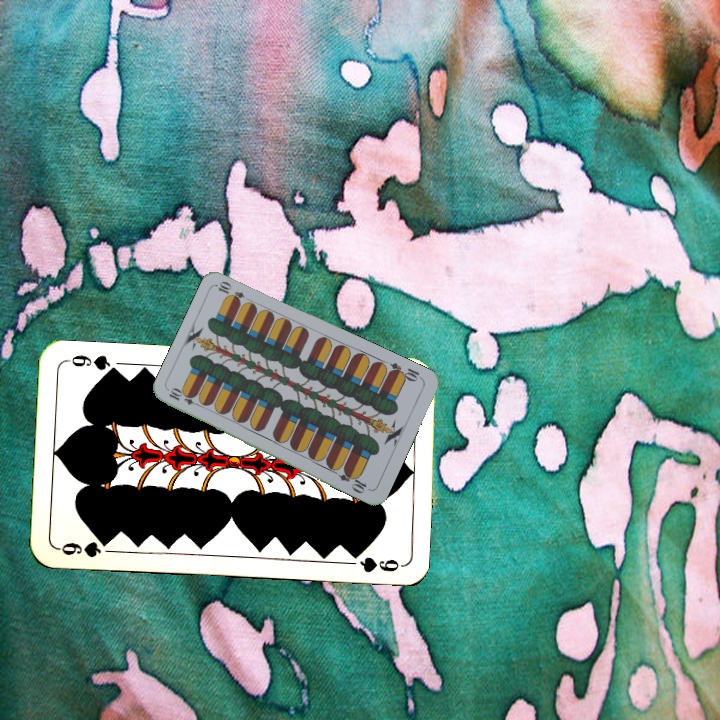E10: (385, 359, 425, 384), (165, 385, 205, 409)
G9: (54, 535, 114, 560)
